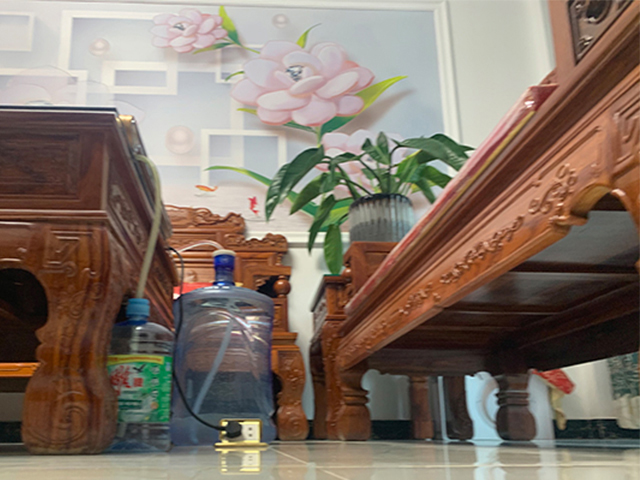sofa: (308, 1, 640, 442)
table: (3, 104, 181, 456)
wire: (171, 358, 265, 447)
